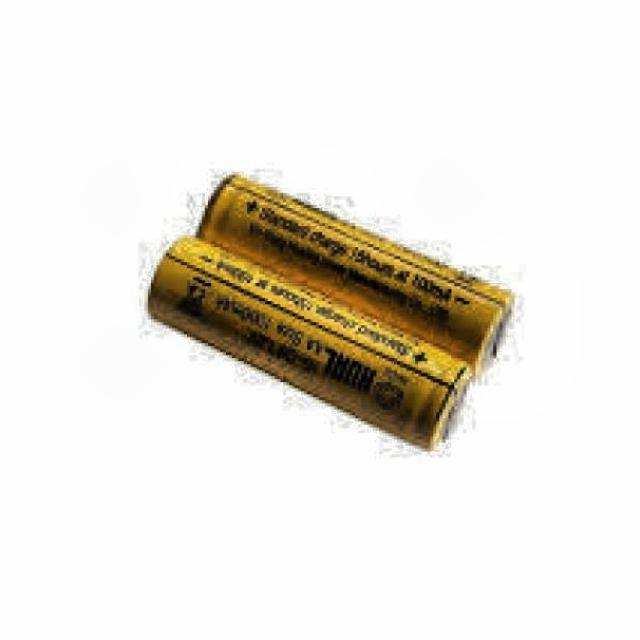battery: (148, 175, 508, 445)
